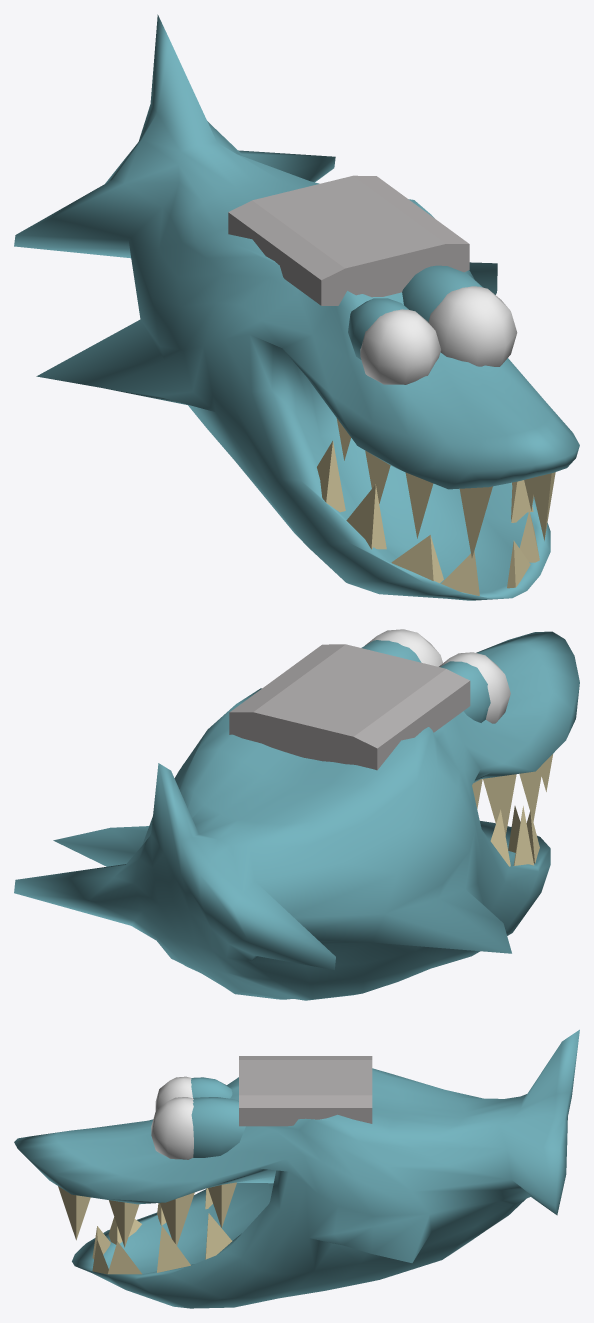
Rendered from test shark 4.glb.
The picture shows the model from 3 angles, top to bottom: view 1: azimuth 30°, elevation 25°; view 2: azimuth 150°, elevation 25°; view 3: azimuth 270°, elevation 25°; orthographic projection. The views are drawn at different scales.
Parts seen in each view (by area): view 1: Cone.004; view 2: Cone.004; view 3: Cone.004.
Part boxes in pixels (x1=…): Cone.004: x1=14, y1=14, x2=579, y2=600; Cone.004: x1=14, y1=629, x2=579, y2=1000; Cone.004: x1=14, y1=1029, x2=579, y2=1308.
Size of the model in its own units: 3.37 by 2.57 by 5.
